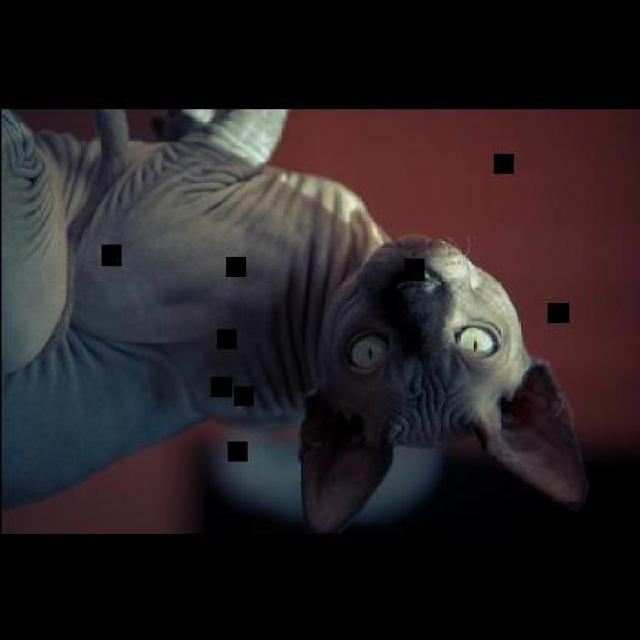unauthorized: (0, 107, 589, 536)
